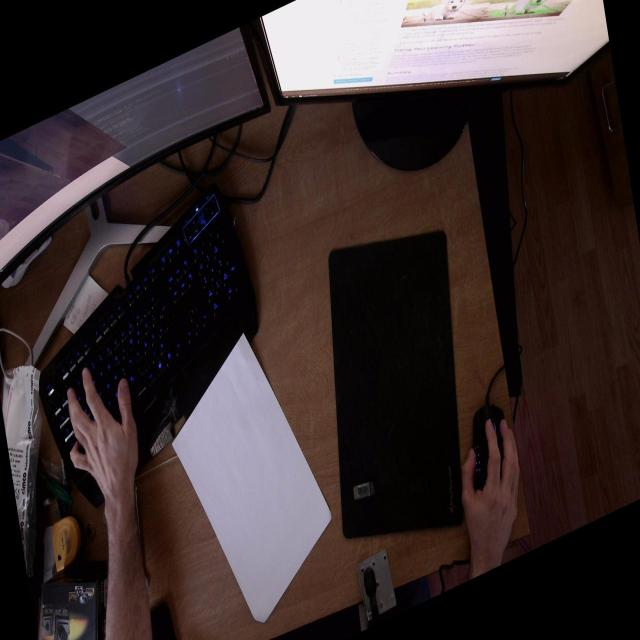keyboard-with-hands: (34, 176, 266, 517)
